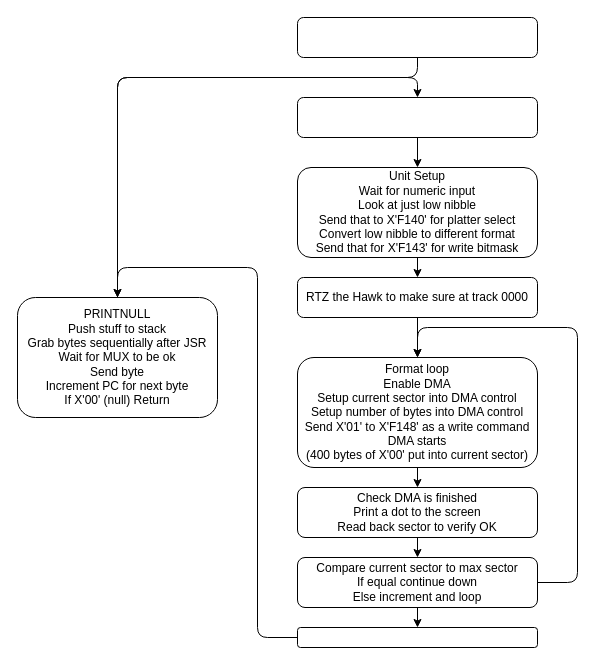
The diagram is 603 pixels wide and 665 high, and some of its shapes have lost their labels. The shapes that lost their labels are listed below. From the top down, each one's centre as x and y in pixels, then its label:
point (417, 37): Show opening text using PRINTNULL
point (417, 117): Fill 400 bytes of memory with X'00'
point (417, 637): Print Goodbye using PRINTNULL
